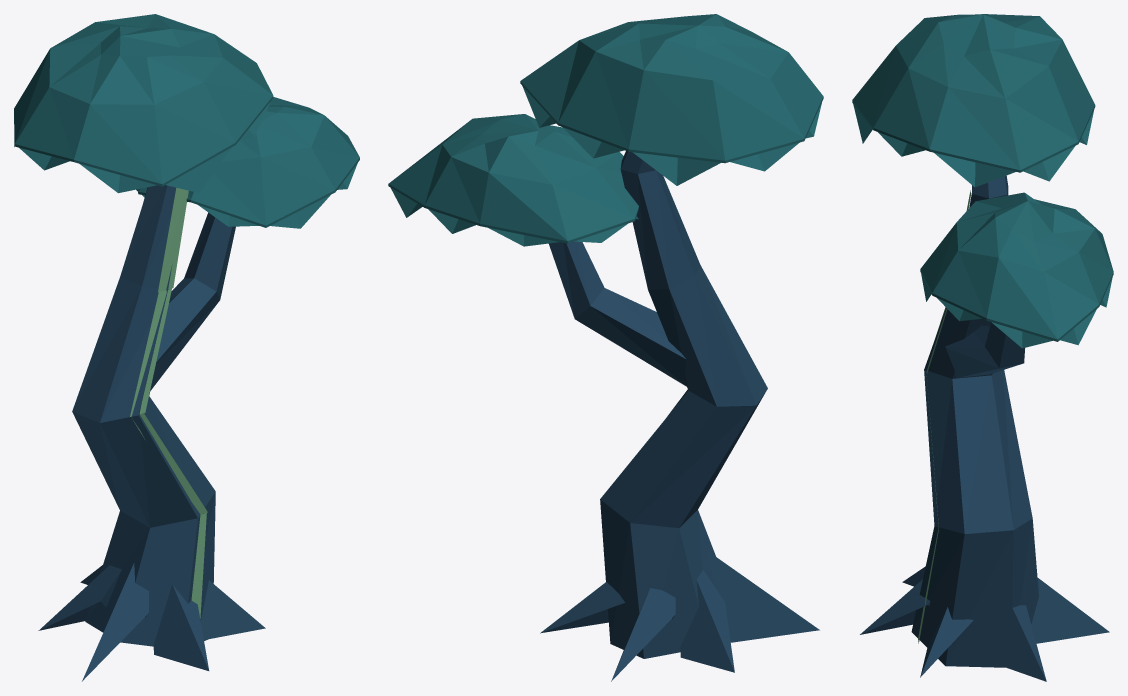
The picture shows the model from 3 angles, left to right: view 1: azimuth 30°, elevation 25°; view 2: azimuth 150°, elevation 25°; view 3: azimuth 270°, elevation 25°; orthographic projection. The views are drawn at different scales.
Visible parts, largest first — view 1: 复用无尽森林树_2.001; view 2: 复用无尽森林树_2.001; view 3: 复用无尽森林树_2.001.
Part boxes in pixels (x1,y1,x2,y2): 复用无尽森林树_2.001: (14, 14, 359, 681); 复用无尽森林树_2.001: (388, 14, 823, 681); 复用无尽森林树_2.001: (852, 14, 1113, 681).
Size of the model in its own units: 0.5559 by 0.8765 by 0.3361.
